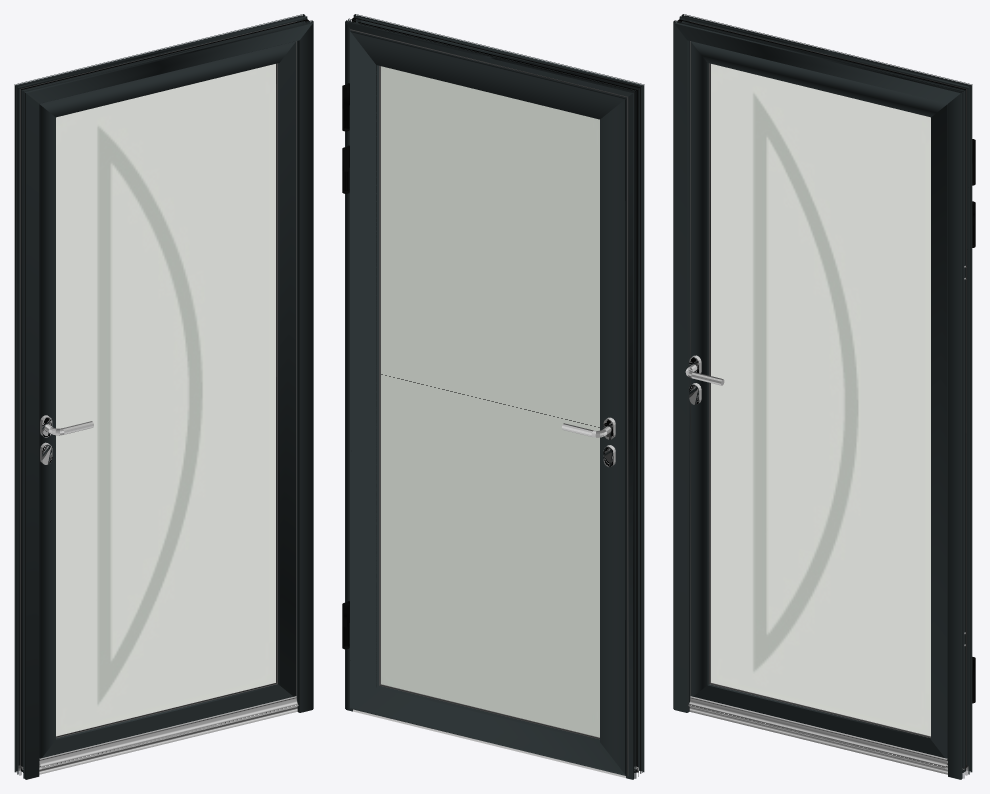
3 renders of one model, left to right at view 1: azimuth 30°, elevation 25°; view 2: azimuth 150°, elevation 25°; view 3: azimuth 330°, elevation 25°, orthographic.
Visible parts, largest first — view 1: ouvrant, 30_architect; view 2: ouvrant, 30_architect; view 3: ouvrant, 30_architect.
Boxes of the visible parts, x1=… form: ouvrant: x1=20, y1=21, x2=298, y2=768; 30_architect: x1=14, y1=14, x2=313, y2=779; ouvrant: x1=342, y1=29, x2=628, y2=776; 30_architect: x1=342, y1=14, x2=644, y2=779; ouvrant: x1=688, y1=21, x2=975, y2=768; 30_architect: x1=673, y1=14, x2=975, y2=779.
Size of the model in its own units: 96 by 218 by 20.21.
Materials: 1 (1 with a texture image).
